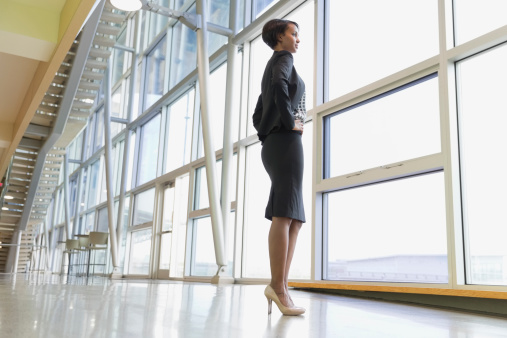em pe: (245, 3, 314, 329)
